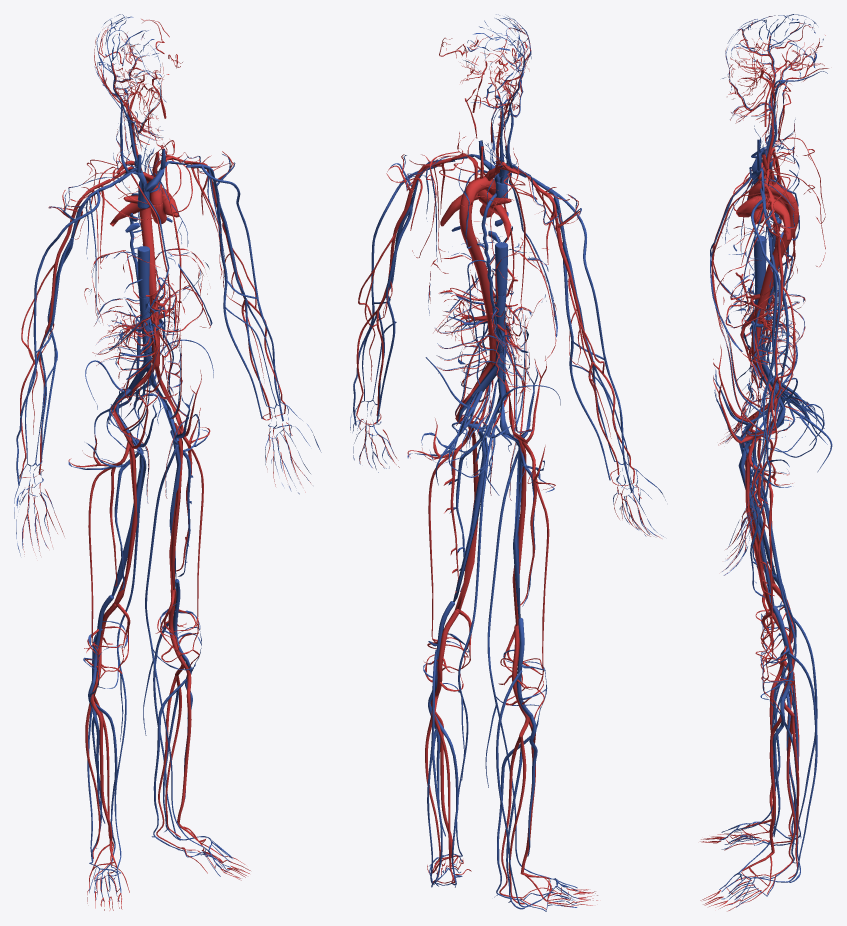
File: vessels.glb
The picture shows the model from 3 angles, left to right: view 1: azimuth 30°, elevation 25°; view 2: azimuth 150°, elevation 25°; view 3: azimuth 270°, elevation 25°; orthographic projection. The views are drawn at different scales.
Visible parts, largest first — view 1: veins, arteries, aorta, vena-cava; view 2: veins, arteries, aorta, vena-cava; view 3: veins, arteries, aorta, vena-cava.
Part boxes in pixels (left/top/right/bottom): veins: left=14, top=14, right=321, bottom=901; arteries: left=19, top=19, right=310, bottom=910; aorta: left=140, top=175, right=166, bottom=368; vena-cava: left=137, top=190, right=151, bottom=367; veins: left=350, top=14, right=665, bottom=911; arteries: left=356, top=18, right=661, bottom=909; aorta: left=459, top=176, right=496, bottom=366; vena-cava: left=495, top=182, right=507, bottom=367; veins: left=710, top=14, right=832, bottom=907; arteries: left=700, top=16, right=828, bottom=911; aorta: left=748, top=181, right=798, bottom=364; vena-cava: left=753, top=182, right=766, bottom=358.
Size of the model in its own units: 0.6434 by 1.71 by 0.2451.
